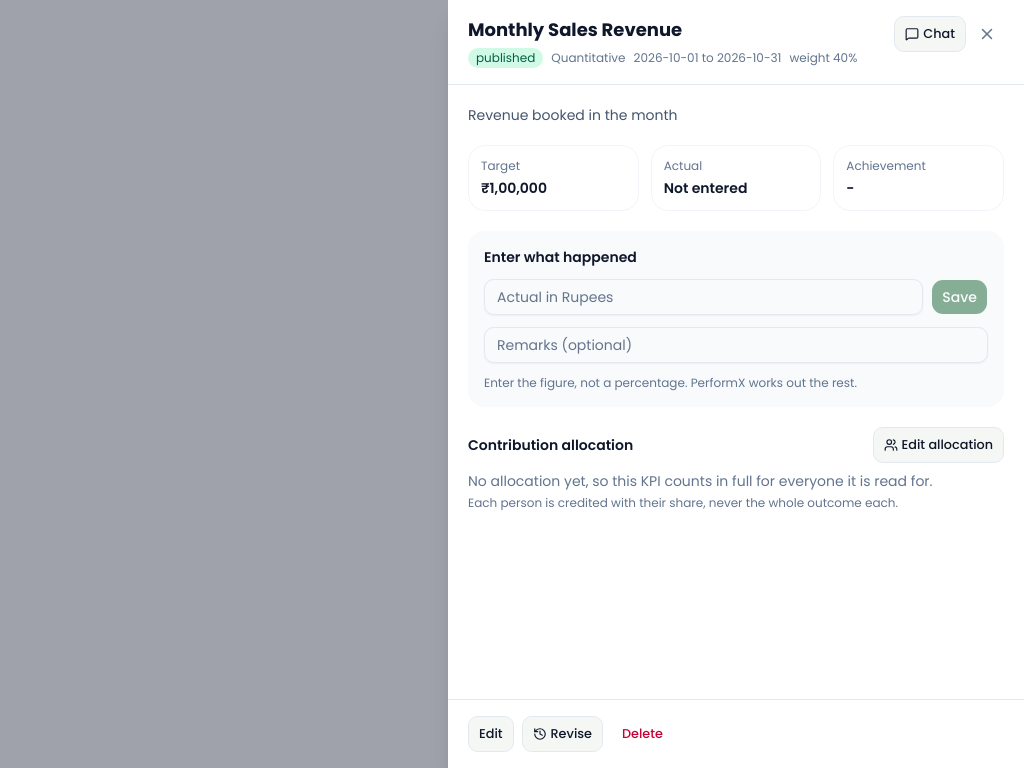
Test case: KpiDetailSheet allocation › blocks a total over 100 before it reaches the server
Click the button "Edit allocation" at (938, 445), box left=873, top=427, right=1004, bottom=463
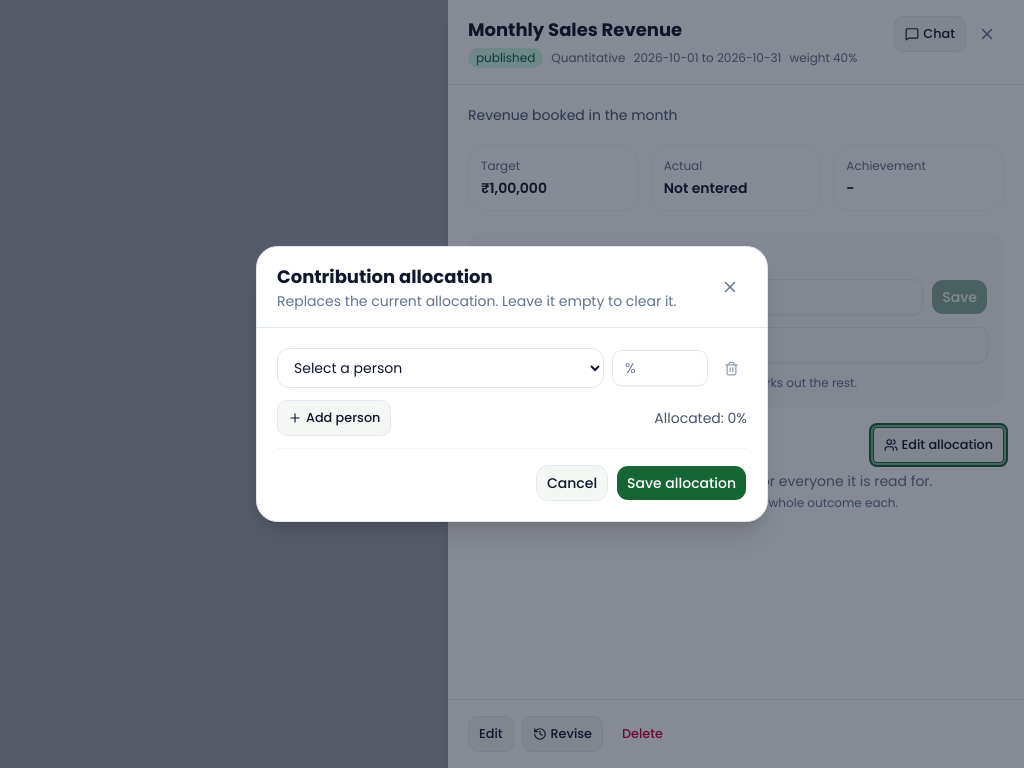
Select "Asha Employee" in the dropdown named "Person 1" at (440, 368), box left=277, top=348, right=604, bottom=388
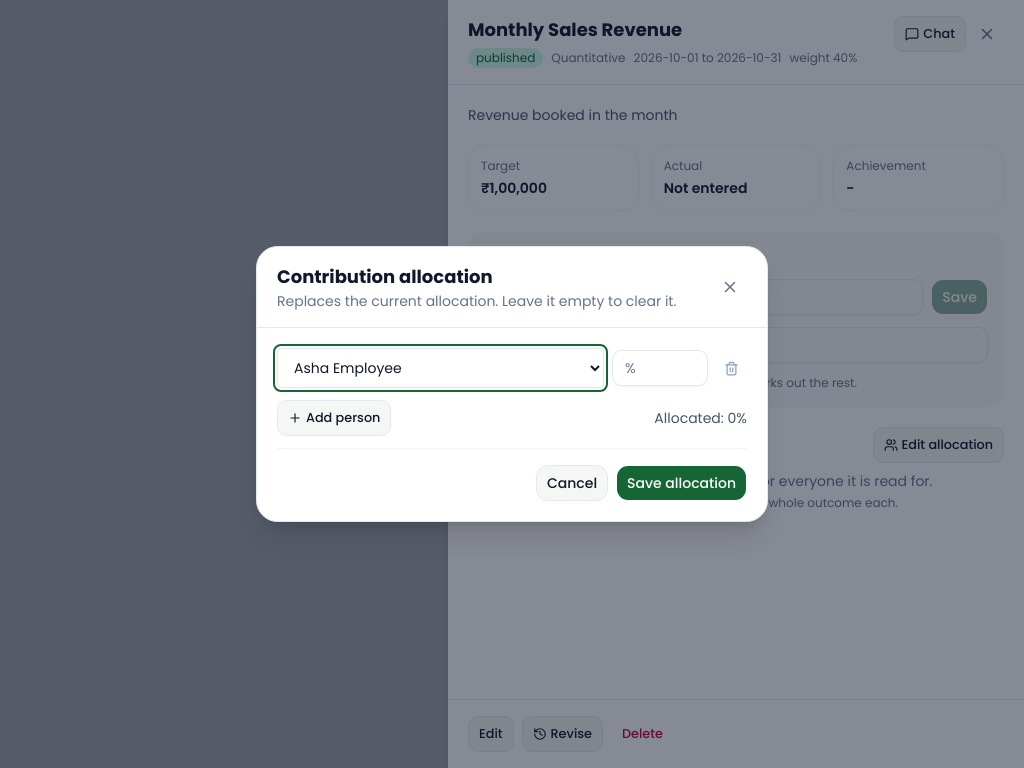
Type "150" into the number field named "Share 1" at (660, 368), box left=612, top=350, right=708, bottom=386
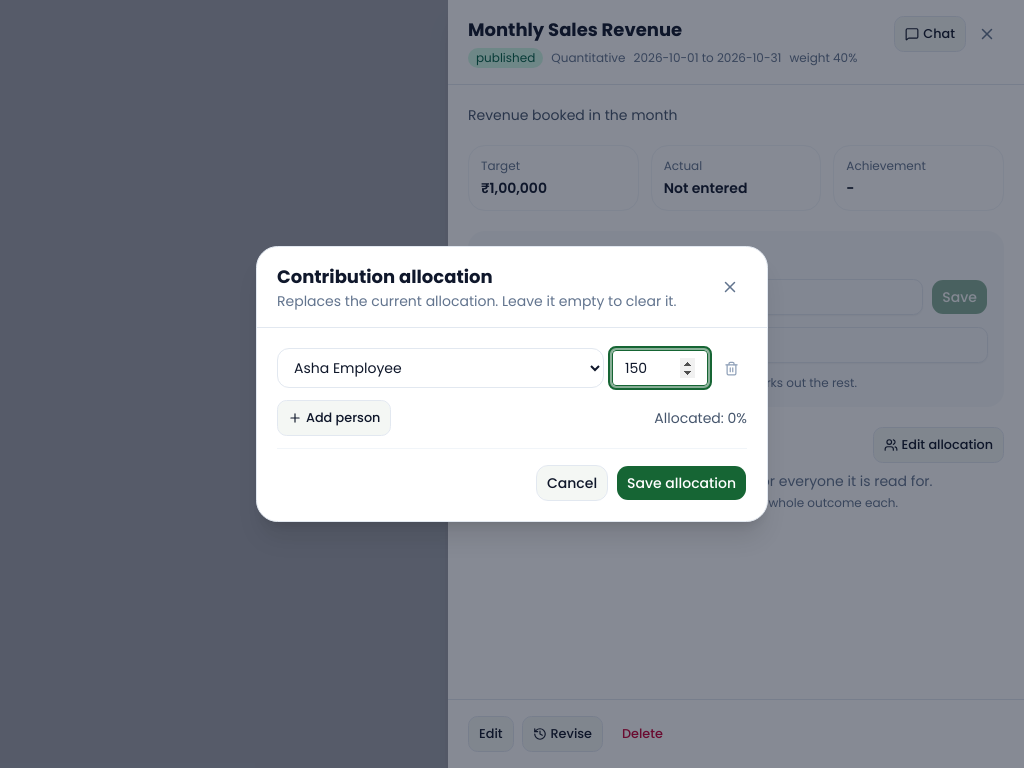
Click the button "Save allocation" at (682, 483), box left=616, top=465, right=747, bottom=501
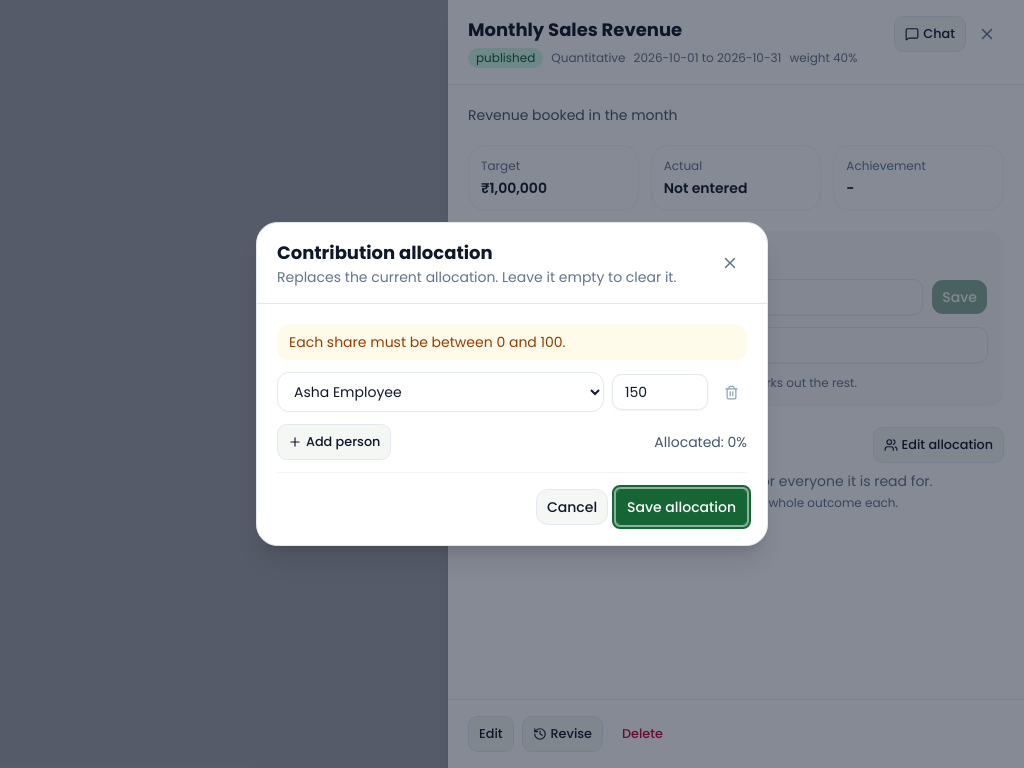
Expected: the list item "Each share must be between 0 and 100." is shown, left=289, top=332, right=566, bottom=352
